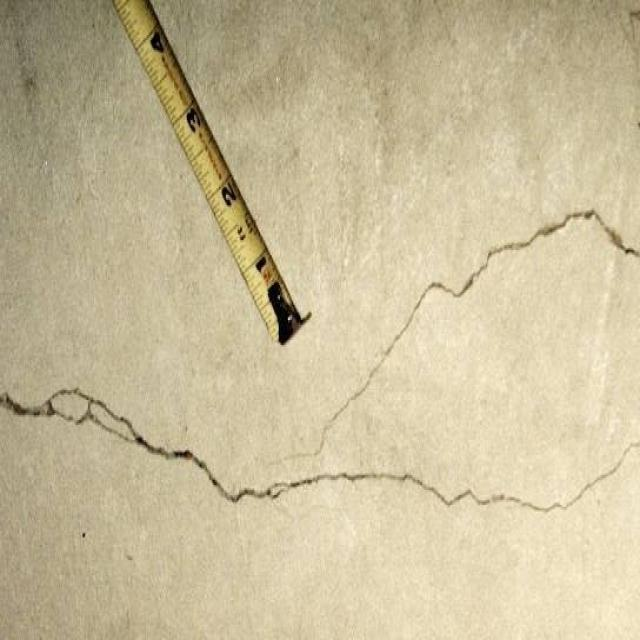Annular: (328, 210, 640, 516), (5, 379, 141, 459)
Transverse: (152, 427, 317, 512)
